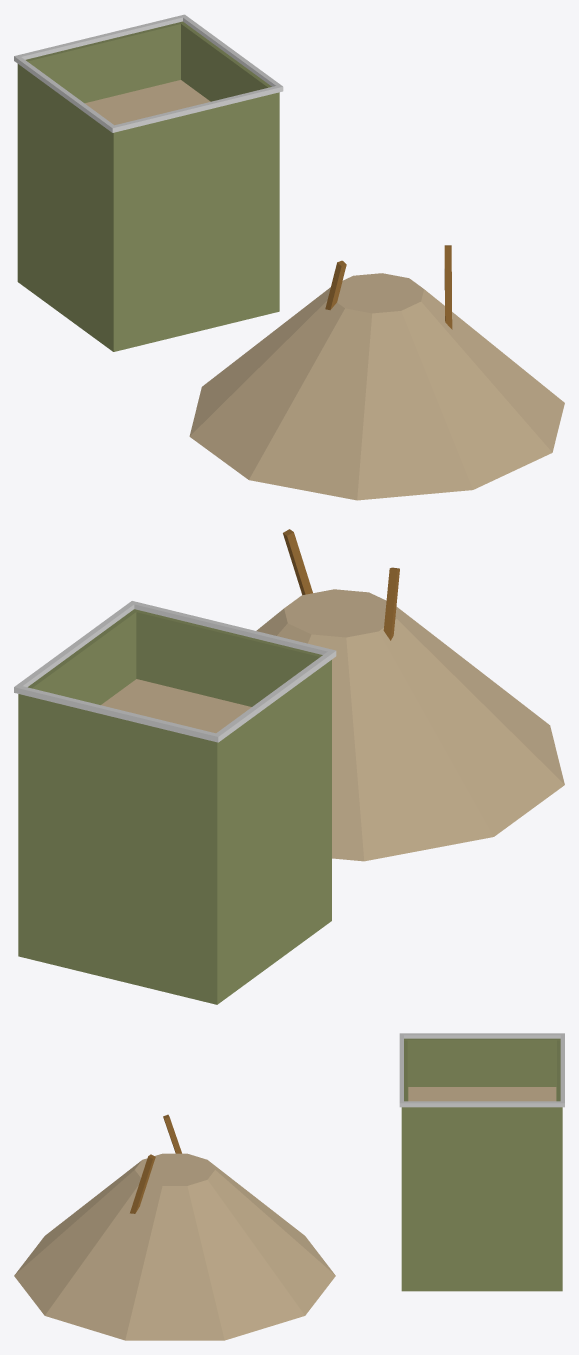
Rendered from SM_ObraHescoAbierto_v2_8m_LOD0.fbx.
3 renders of one model, top to bottom at view 1: azimuth 30°, elevation 25°; view 2: azimuth 150°, elevation 25°; view 3: azimuth 270°, elevation 25°, orthographic. The views are drawn at different scales.
Parts seen in each view (by area): view 1: SM_obra_curso_v24_LOD0; view 2: SM_obra_curso_v24_LOD0; view 3: SM_obra_curso_v24_LOD0.
Part boxes in pixels (x1,y1,x2,y2): SM_obra_curso_v24_LOD0: (14, 14, 564, 500); SM_obra_curso_v24_LOD0: (14, 529, 564, 1004); SM_obra_curso_v24_LOD0: (14, 1033, 564, 1340).
Bounding box in the file's own units: 2.09 × 1.44 × 3.76.
